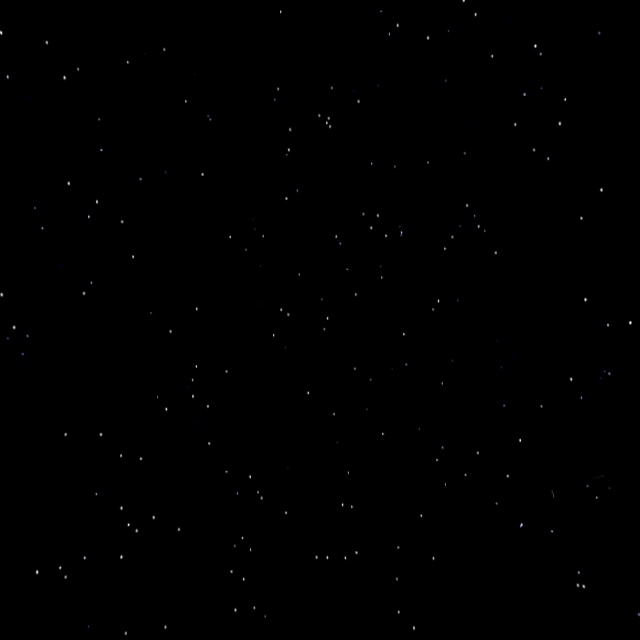medium_debris: (485, 396, 623, 543)
